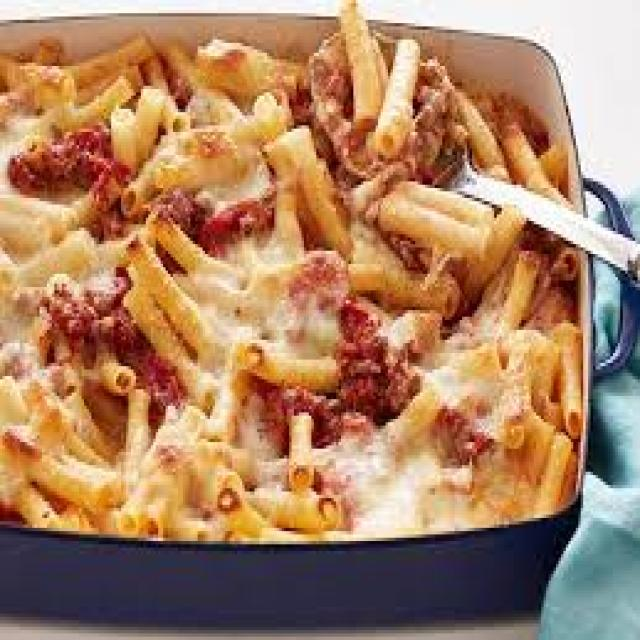Organik: (0, 39, 573, 514)
